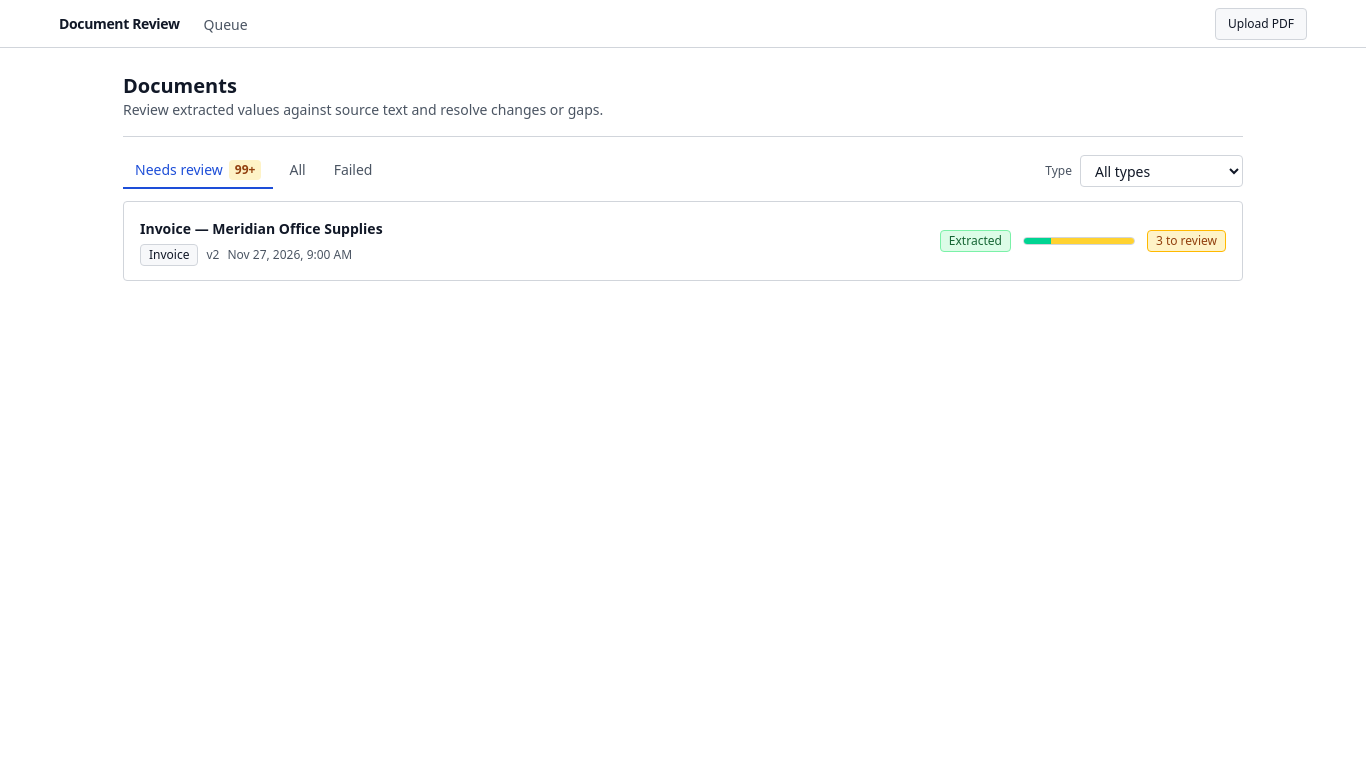
Test: DocumentsListPage & UploadDialog › keeps focus while typing in UploadDialog, resets form on close, shows 413/415/422/429 errors, and navigates on 201
This screenshot has width=1366, height=768.
Later steps or results of the test are not shown.
Click the button "Upload PDF" at [1261, 24], box [1215, 8, 1307, 40]
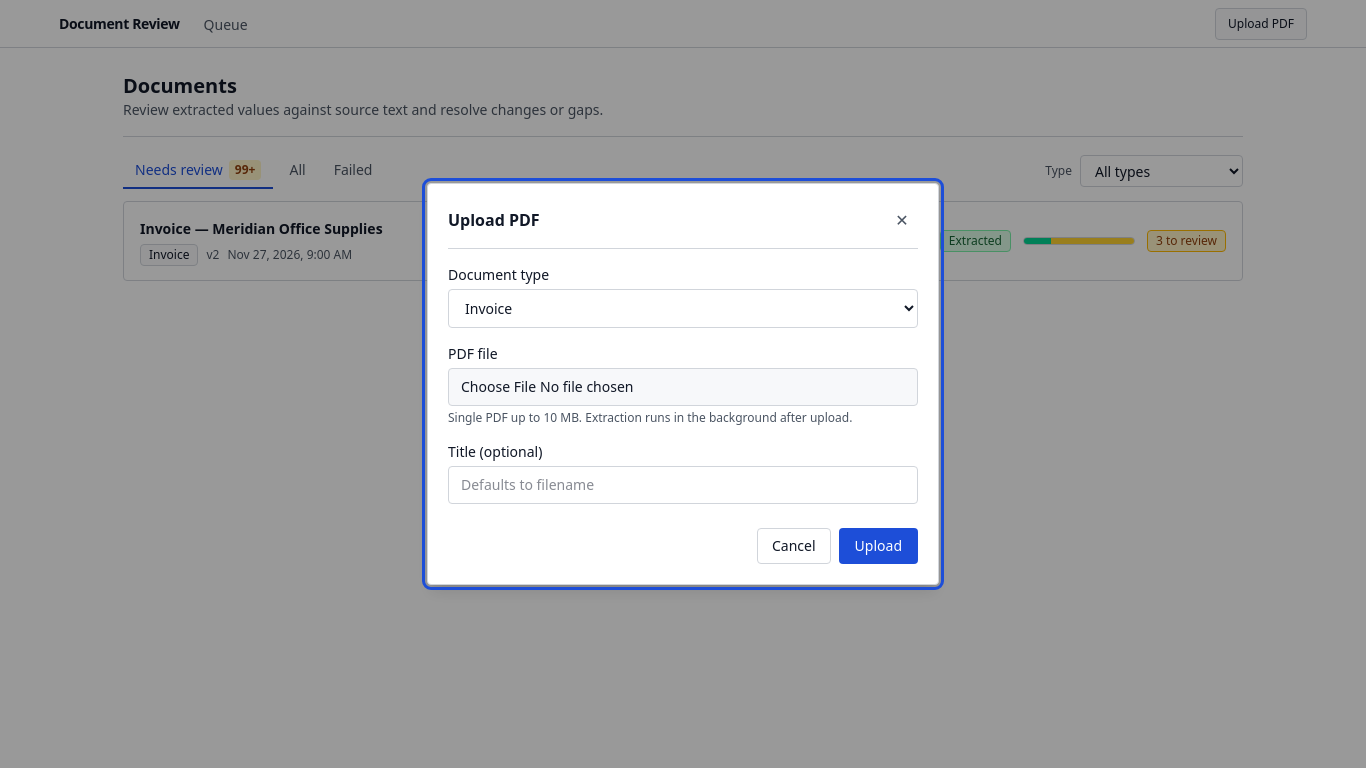
Expected: the dialog "Upload PDF" is shown, [427, 183, 939, 585]
Type "Q4 Invoice" into the field labelled "Title (optional)" at [683, 485], box [448, 466, 918, 504]
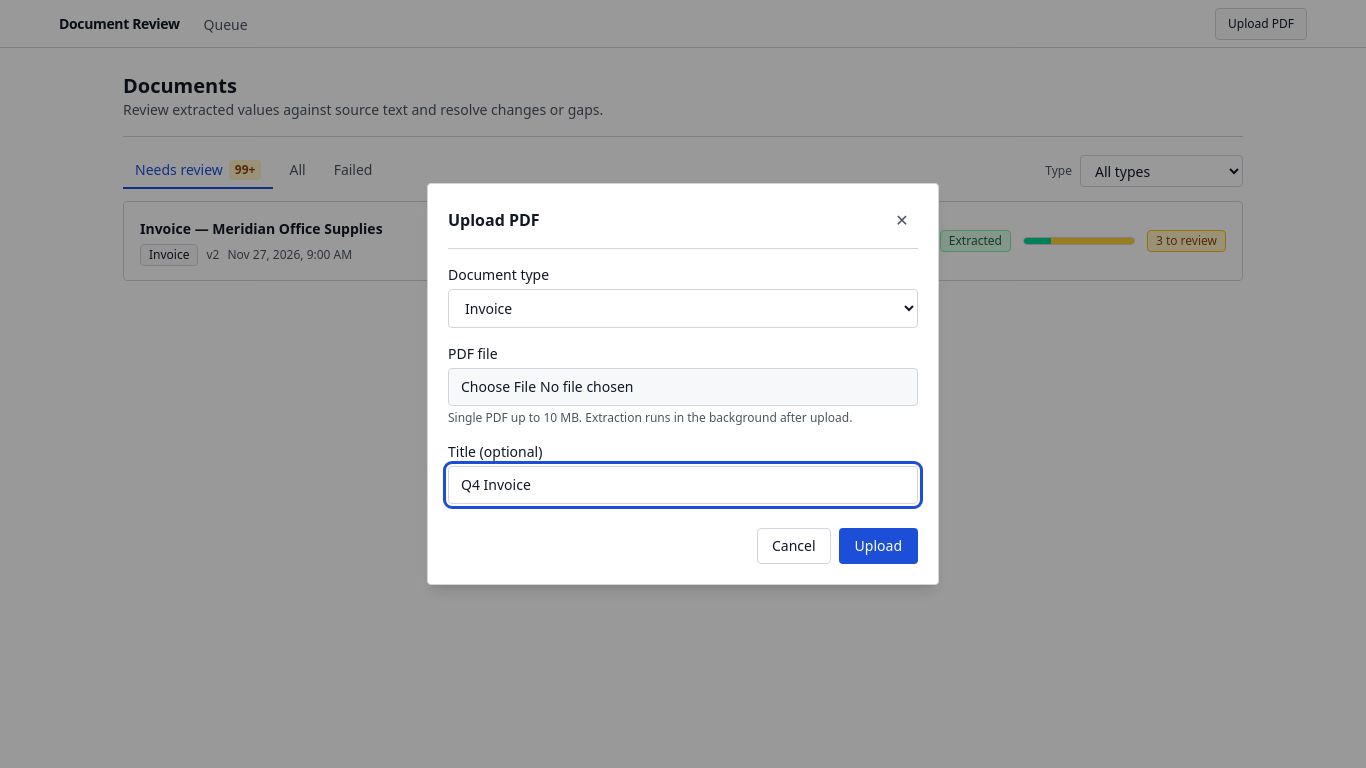
Click the button "Cancel" at [794, 546], box [757, 528, 831, 564]
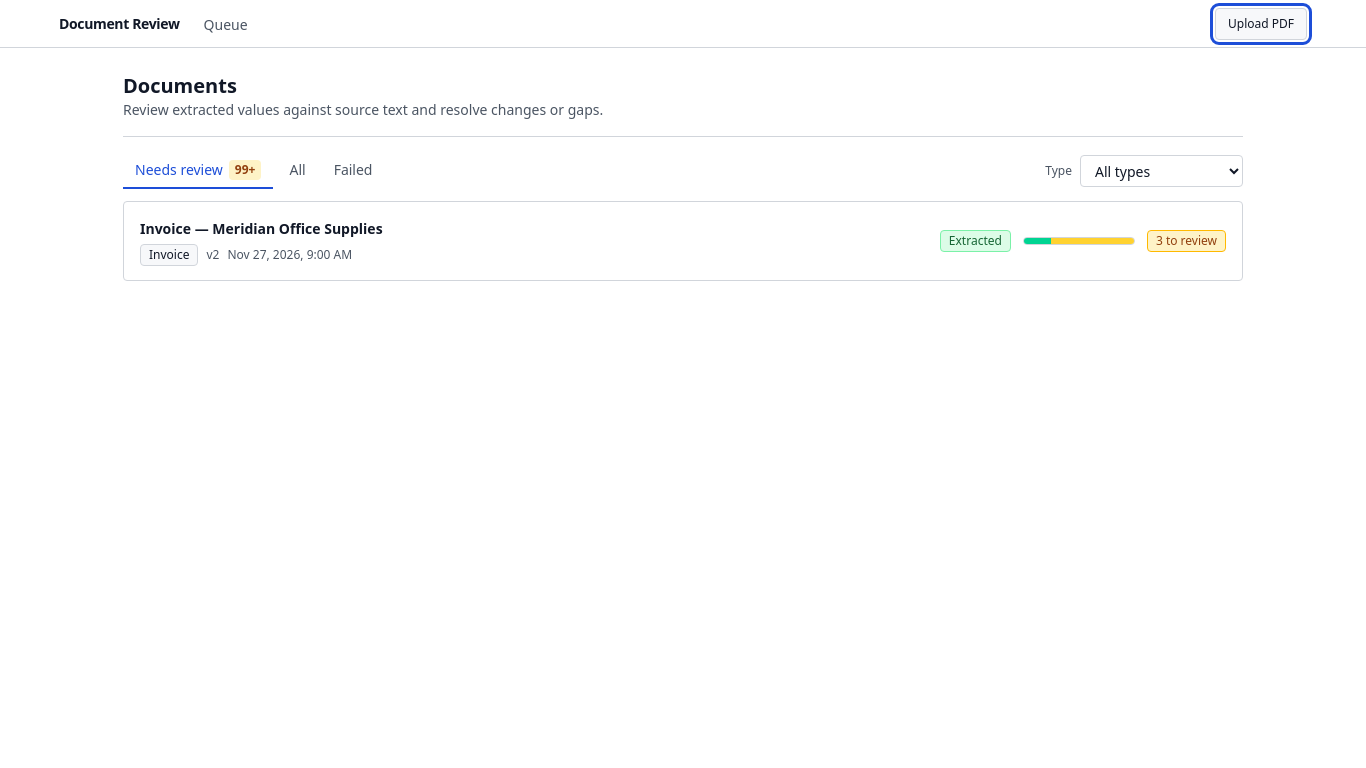
Expected: the dialog is gone
Click the button "Upload PDF" at [1261, 24], box [1215, 8, 1307, 40]
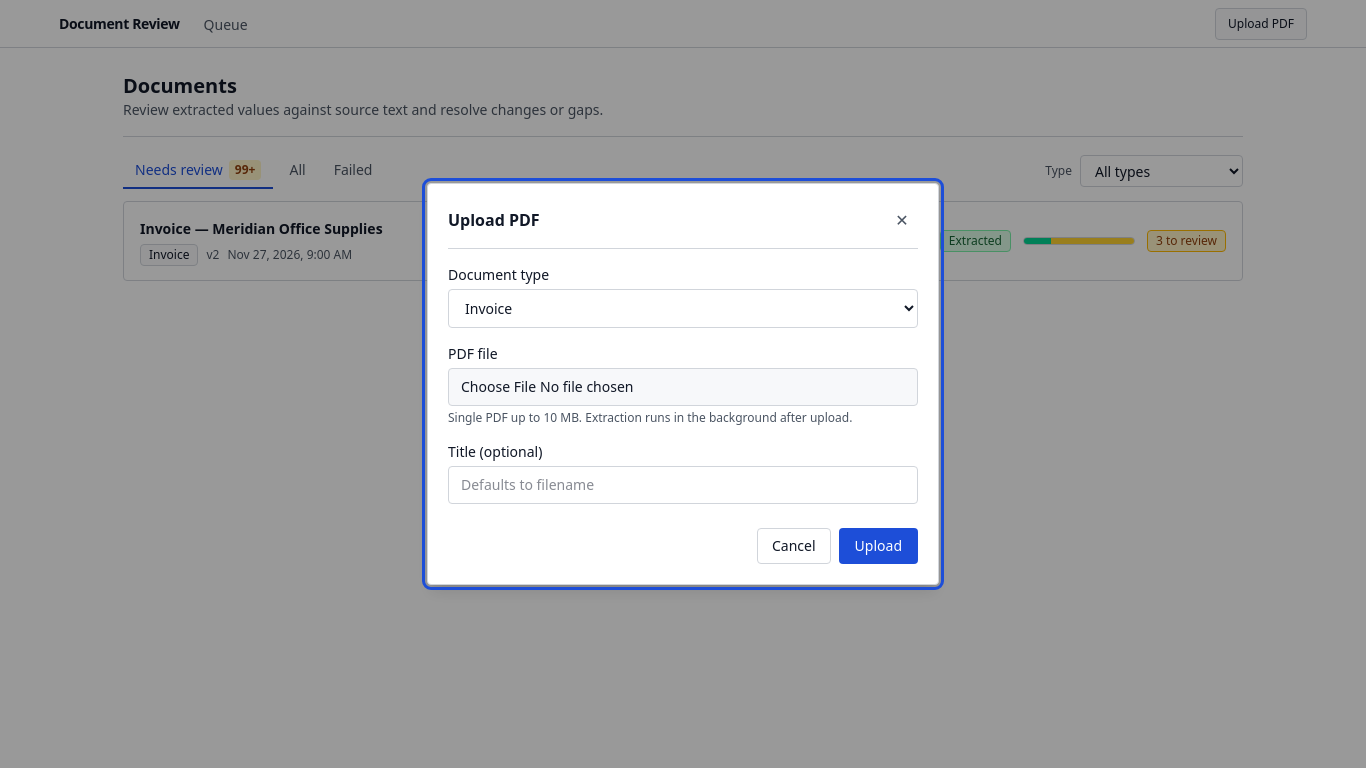
Expected: the field labelled "Title (optional)" is empty, [448, 466, 918, 504]
